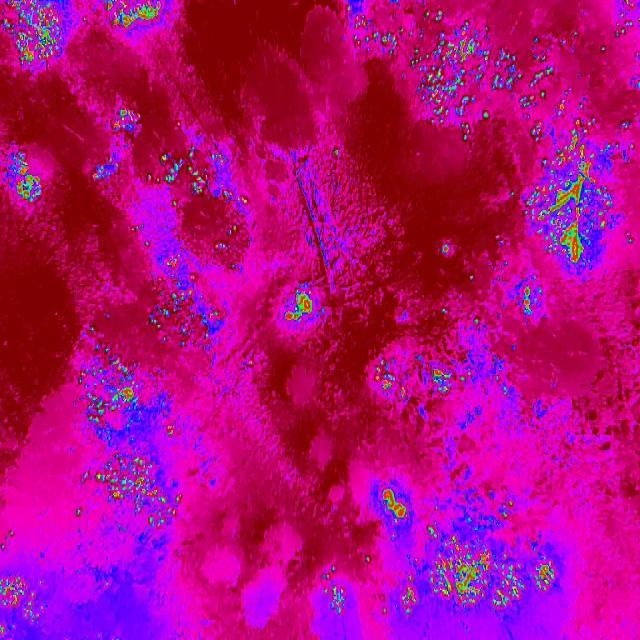fire: (337, 0, 640, 138), (321, 487, 574, 622), (68, 333, 192, 535), (507, 133, 618, 274), (131, 233, 239, 352), (91, 148, 256, 223), (432, 243, 542, 335), (370, 352, 460, 417), (2, 0, 72, 79), (0, 552, 48, 640), (4, 146, 48, 210), (102, 0, 165, 32), (284, 283, 318, 335), (108, 105, 142, 134)
